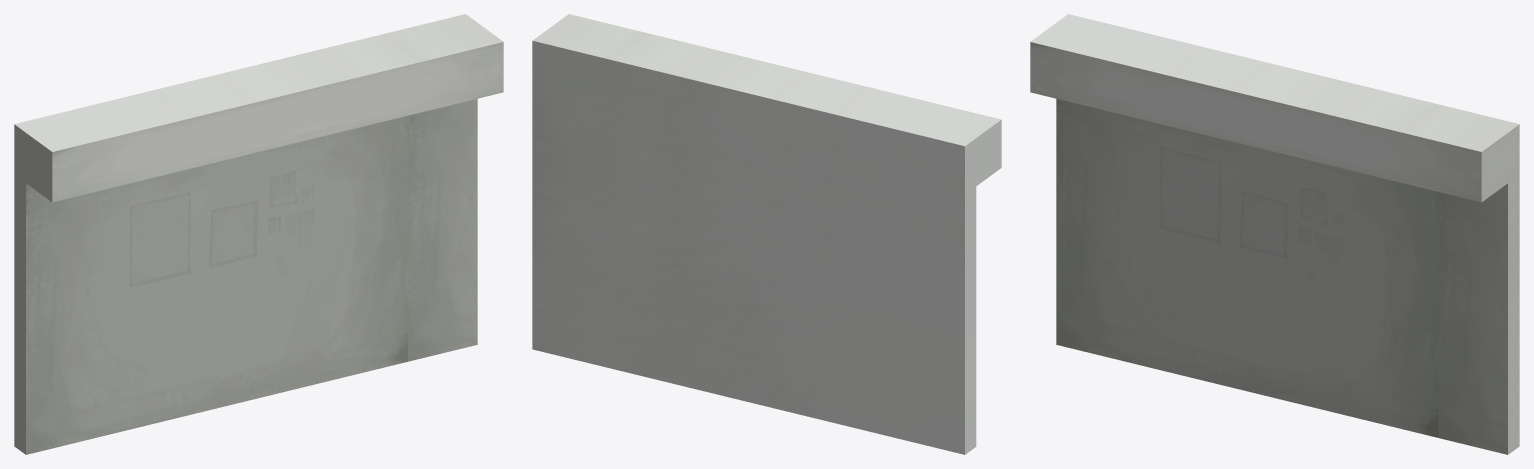
The model's file is dirty_accent_wall.fbx.
3 views of the same model, side by side, from view 1: azimuth 30°, elevation 25°; view 2: azimuth 150°, elevation 25°; view 3: azimuth 330°, elevation 25° (orthographic). The views are drawn at different scales.
Parts seen in each view (by area): view 1: sidewall4; view 2: sidewall4; view 3: sidewall4.
Part boxes in pixels (x1,y1,x2,y2): sidewall4: (14,14,503,454); sidewall4: (532,14,1001,454); sidewall4: (1030,14,1519,454).
Size of the model in its own units: 4.4 by 0.6434 by 3.
2 materials, 2 textured.
